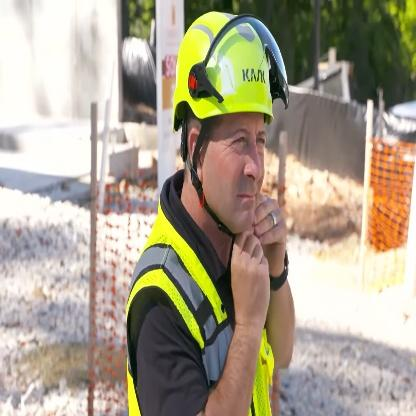helmet: (161, 9, 293, 249)
